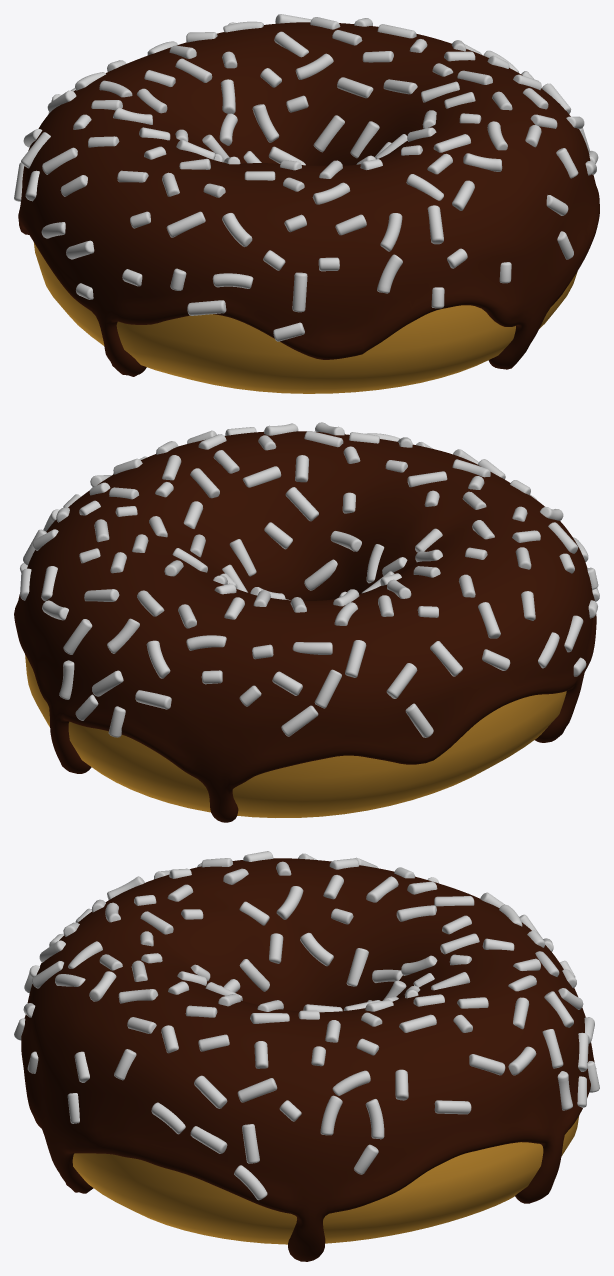
File: donut-tight-nofloor-colordough.obj
3 renders of one model, top to bottom at view 1: azimuth 30°, elevation 25°; view 2: azimuth 150°, elevation 25°; view 3: azimuth 270°, elevation 25°, orthographic.
Visible parts, largest first — view 1: Icing.long_sprinkles, Donut.long_sprinkles, Long, Curved, Medium, Short; view 2: Icing.long_sprinkles, Donut.long_sprinkles, Long, Medium, Curved, Short; view 3: Icing.long_sprinkles, Donut.long_sprinkles, Curved, Medium, Long, Short.
Boxes of the visible parts, box(x1,y1,x2,y2) form: Icing.long_sprinkles: box(18, 22, 599, 376); Donut.long_sprinkles: box(33, 242, 577, 393); Long: box(14, 14, 598, 315); Curved: box(41, 21, 596, 293); Medium: box(25, 17, 578, 341); Short: box(73, 18, 511, 308); Icing.long_sprinkles: box(14, 431, 596, 822); Donut.long_sprinkles: box(25, 654, 566, 817); Long: box(20, 431, 599, 737); Medium: box(20, 427, 540, 737); Curved: box(23, 422, 588, 699); Short: box(63, 435, 598, 706); Icing.long_sprinkles: box(21, 858, 596, 1261); Donut.long_sprinkles: box(72, 1115, 579, 1244); Curved: box(24, 876, 583, 1200); Medium: box(63, 851, 599, 1174); Long: box(32, 857, 594, 1163); Short: box(14, 861, 576, 1121).
Bounding box in the file's own units: 0.1219 × 0.0512 × 0.1199.
